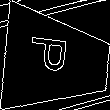P_E: (33, 40, 80, 82)
